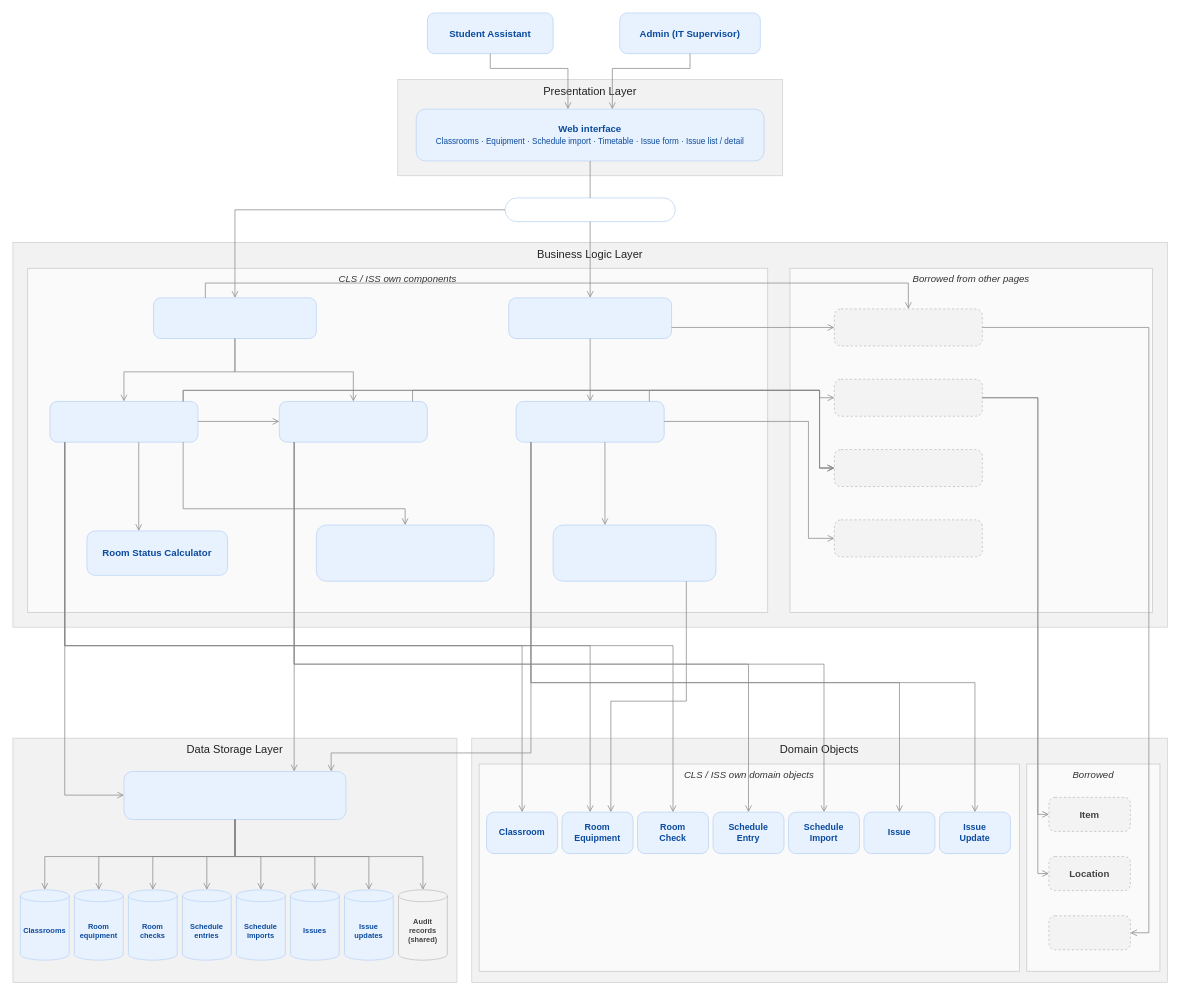
The diagram is 1180 pixels wide and 995 high, and some of its shapes have lost their labels. Here are the shapes that lost their labels. From the top down, the centre of each, then its label:
At point 589,209: "validated requests and results".
At point 234,318: "Classroom Controller".
At point 590,318: "Issue Controller".
At point 908,327: "Auth Service (USR)".
At point 908,397: "Asset Manager (AST)".
At point 123,421: "Classroom Manager".
At point 353,421: "Schedule Manager".
At point 589,421: "Issue Manager".
At point 908,468: "Audit Log (RPT)".
At point 405,552: "Classroom Filters (Building, Type, Capacity, Status, Free slot)".
At point 634,552: "Issue Effects (Hardware item, Critical room, No equipment)".
At point 908,538: "Notification Service (NTF)".
At point 234,795: "Repository / Storage Manager (repositories + UnitOfWork, SQLite)".
At point 1089,932: "User".
